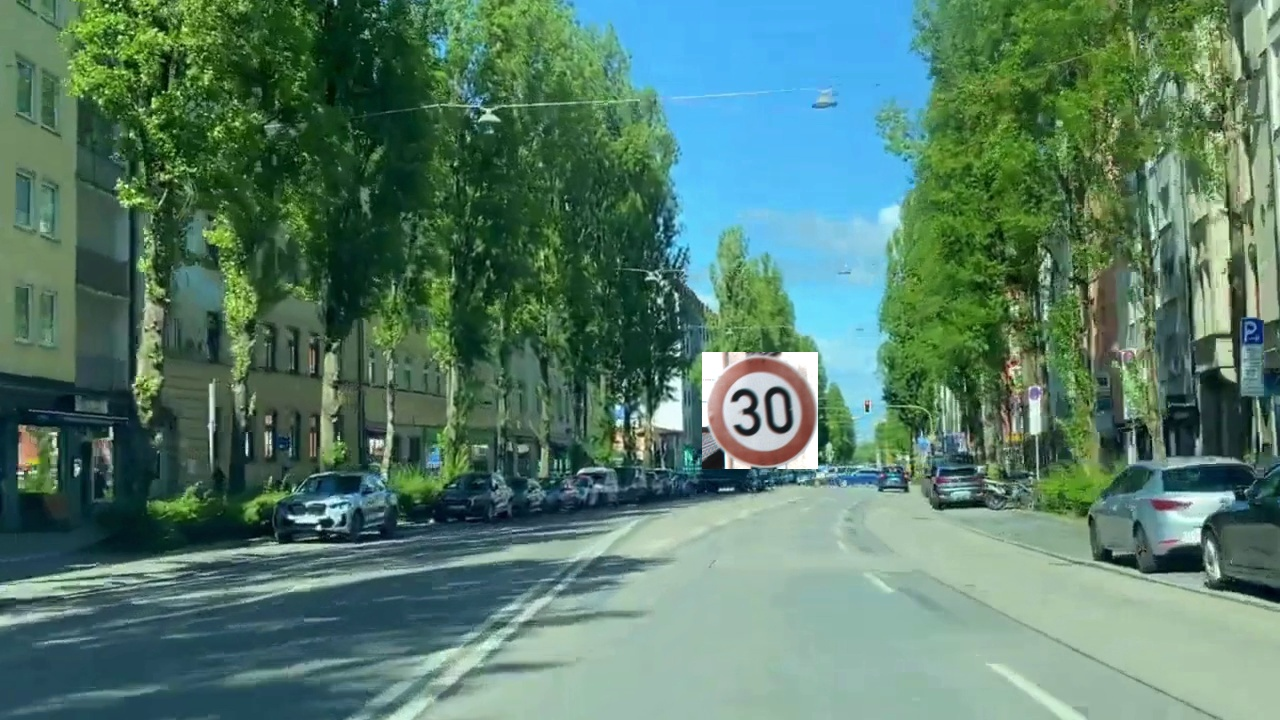Speed 30: (702, 352, 818, 469)
